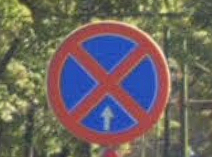oprirea_interzisa: (42, 21, 171, 147)
